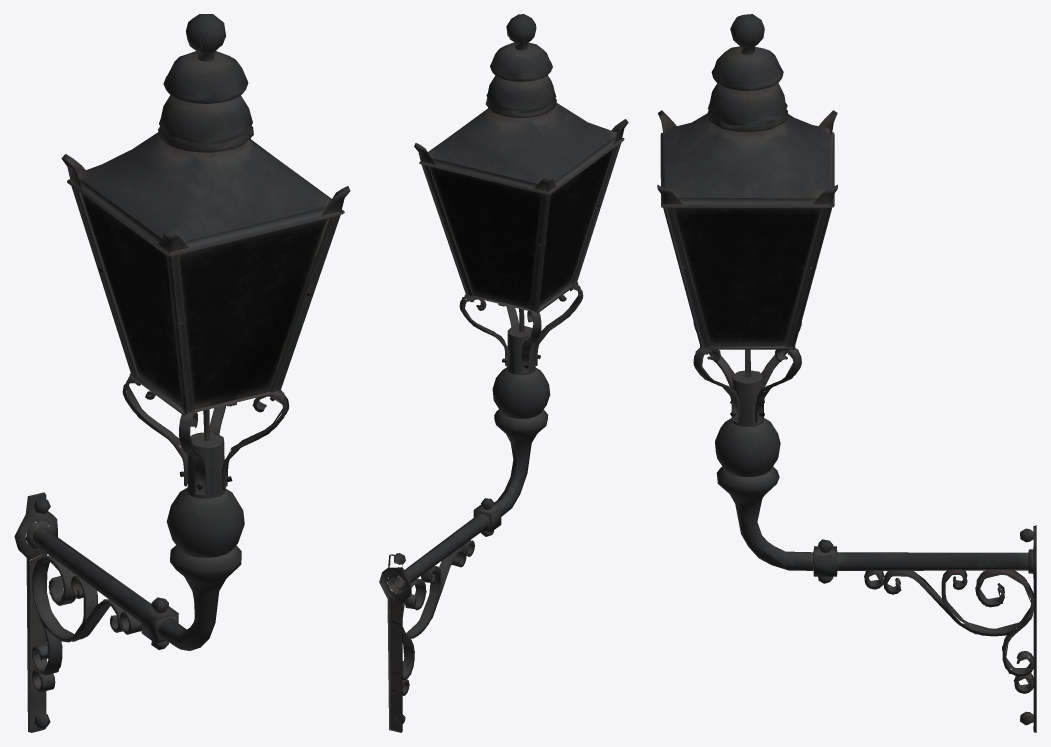
Rendered from ph_street_lamp_02.glb.
The picture shows the model from 3 angles, left to right: view 1: azimuth 30°, elevation 25°; view 2: azimuth 150°, elevation 25°; view 3: azimuth 270°, elevation 25°; orthographic projection. The views are drawn at different scales.
Parts seen in each view (by area): view 1: street_lamp_02; view 2: street_lamp_02; view 3: street_lamp_02.
Boxes of the visible parts, x1,y1,x2,y2 form: street_lamp_02: (14,14,350,732); street_lamp_02: (379,14,628,732); street_lamp_02: (657,14,1036,732).
Bounding box in the file's own units: 0.3839 × 1.67 × 0.8055.
Materials: 3 (3 with a texture image).
